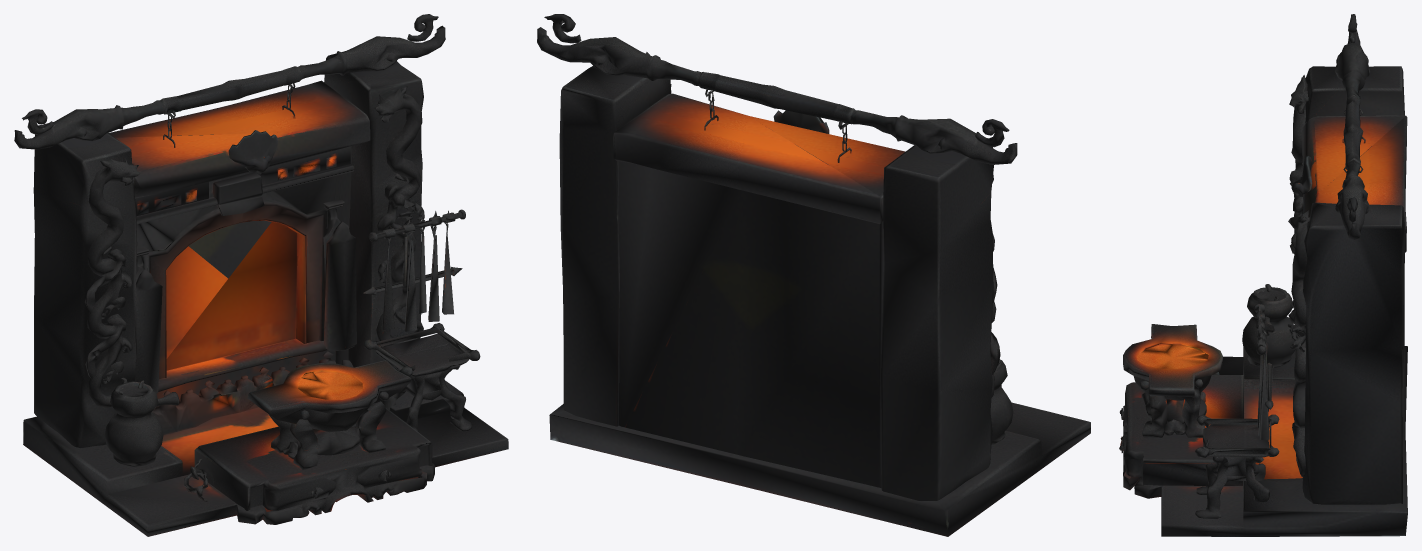
Rendered from LoRenThep_VanLang.fbx.
The picture shows the model from 3 angles, left to right: view 1: azimuth 30°, elevation 25°; view 2: azimuth 150°, elevation 25°; view 3: azimuth 270°, elevation 25°; orthographic projection. The views are drawn at different scales.
Visible parts, largest first — view 1: Mesh_0; view 2: Mesh_0; view 3: Mesh_0.
Part boxes in pixels (<box>): Mesh_0: <box>14,14,508,536</box>; Mesh_0: <box>537,14,1090,536</box>; Mesh_0: <box>1119,14,1407,536</box>.
Bounding box in the file's own units: 95.75 × 76.56 × 57.96.
Materials: 1 (1 with a texture image).
